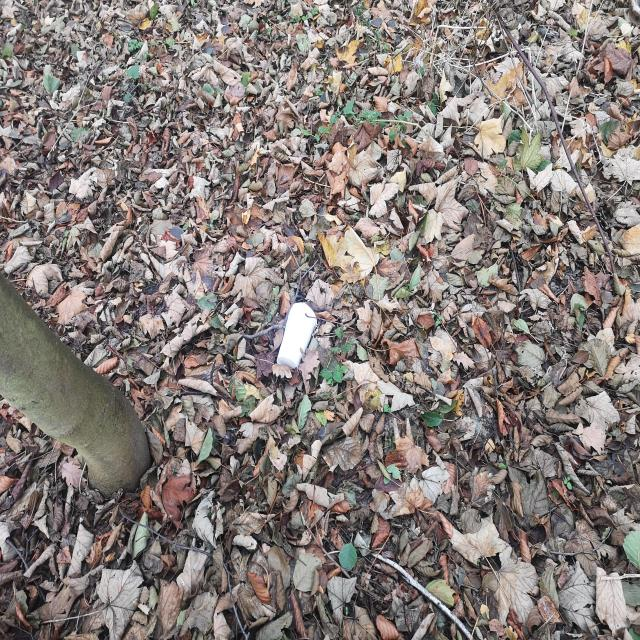litter: (276, 301, 317, 367)
